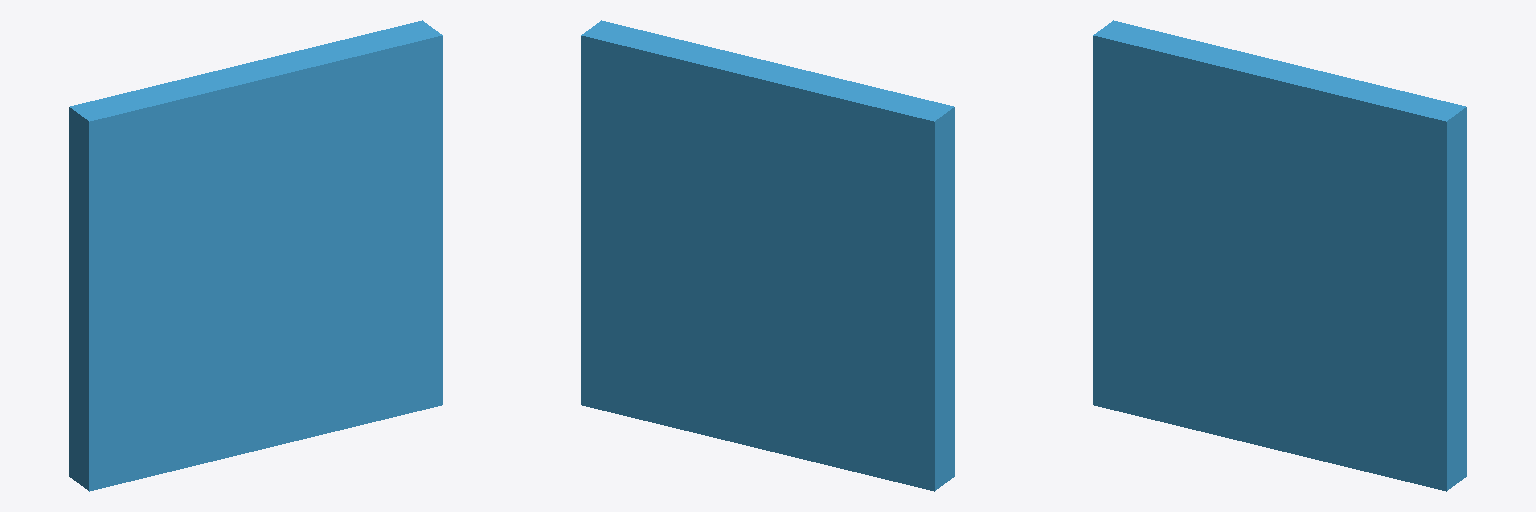
URDF robot description (ground_skeleton):
<?xml version="1.0"?>
<robot name="ground_skeleton">
    <link name="world" />
    <link name="ground_link">
        <inertial>
            <mass value="1.0" />
            <origin xyz="0 0 0" rpy="0 0 0" />
            <inertia ixx="1.0" ixy="0" ixz="0" iyy="1.0" iyz="0" izz="1.0" />
        </inertial>
        <visual>
            <origin xyz="0 -2 0" rpy="0 -0 0" />
            <geometry>
                <mesh filename="ground.obj" scale="10 1 10" />
            </geometry>
        </visual>
        <collision>
            <origin xyz="0 -2 0" rpy="0 -0 0" />
            <geometry>
                <mesh filename="ground.obj" scale="10 1 10" />
            </geometry>
        </collision>
    </link>
    <joint name="ground_joint" type="fixed">
        <origin xyz="0 0 0" rpy="0 0 0" />
        <parent link="world" />
        <child link="ground_link" />
    </joint>
</robot>

--- Facts derived from the render (not from the file) ---
3 views of the same robot in one strip: view 1: azimuth 30°, elevation 25°; view 2: azimuth 150°, elevation 25°; view 3: azimuth 330°, elevation 25° (orthographic).
Robot: ground_skeleton — 2 links, 1 joints (1 fixed); root link world; default pose: every joint at zero.
Links seen in each view (by area): view 1: ground_link; view 2: ground_link; view 3: ground_link.
Link boxes in pixels (left/top/right/bottom): ground_link: left=69, top=20, right=442, bottom=491; ground_link: left=581, top=20, right=954, bottom=491; ground_link: left=1093, top=20, right=1466, bottom=491.
Bounding box of the posed robot: 20 × 2 × 20 m (x, y, z).
1 mesh visuals loaded from 1 distinct referenced files (1 OBJ).
